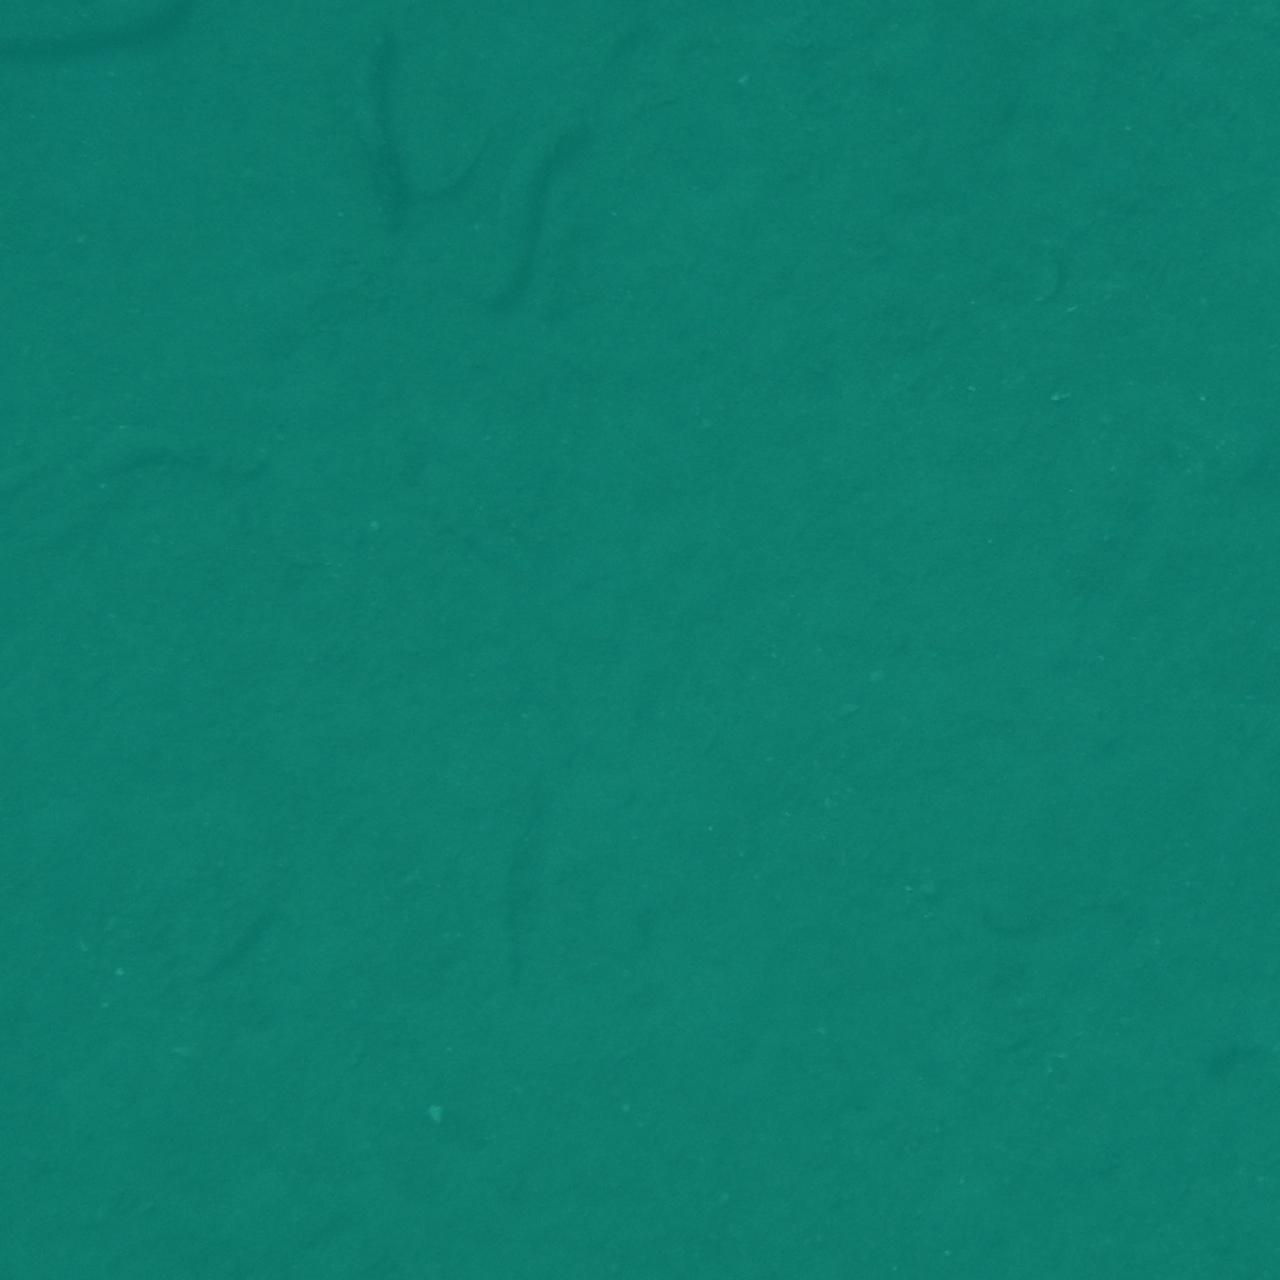Holothuria tubulosa: (451, 120, 602, 358), (516, 0, 812, 89), (328, 14, 431, 250), (1122, 917, 1280, 1046), (1105, 0, 1280, 82), (1175, 0, 1280, 135), (640, 0, 819, 79), (0, 0, 229, 60), (437, 0, 693, 50), (395, 0, 565, 74), (1162, 1178, 1280, 1280), (1177, 1169, 1280, 1280), (1160, 0, 1280, 89), (1002, 1214, 1157, 1280), (0, 0, 59, 172), (0, 0, 120, 66), (0, 0, 123, 56), (0, 0, 66, 101), (1175, 0, 1280, 61), (1194, 0, 1280, 53), (1157, 1250, 1280, 1280)
